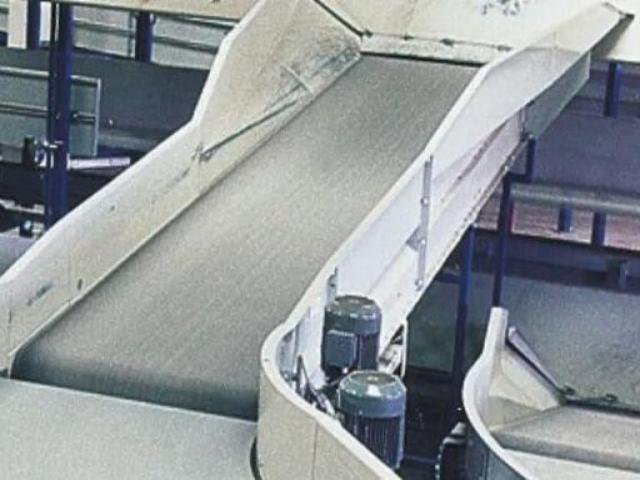conveyor: (9, 28, 556, 420)
